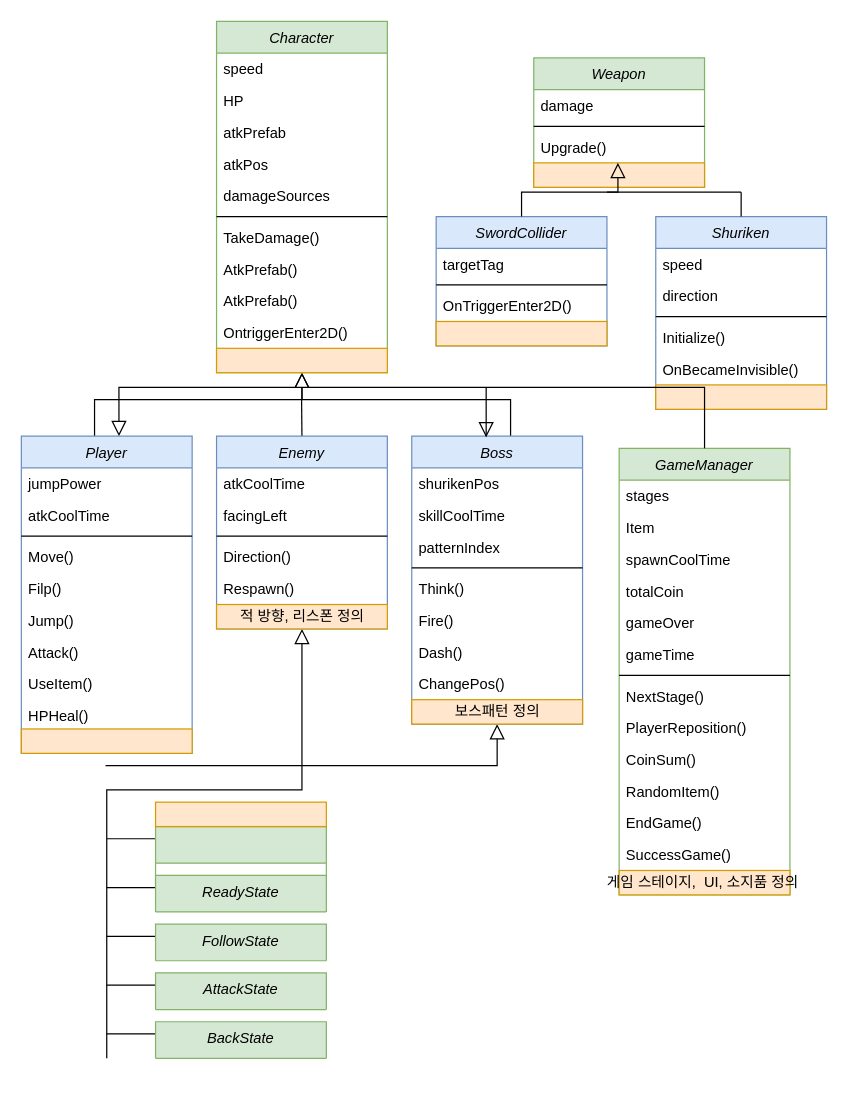
This 848x1094 diagram has some shape labels left out. Each missing label, with the centre of its shape:
IdleState: the point at 240,856
근접무기 정의: the point at 521,333
무기 데미지, 강화 정의: the point at 619,174
원거리무기 정의: the point at 741,396
적 AI 정의: the point at 240,814
캐릭터 공통 기능 정의: the point at 301,360
플레이어 입력 정의: the point at 106,740
